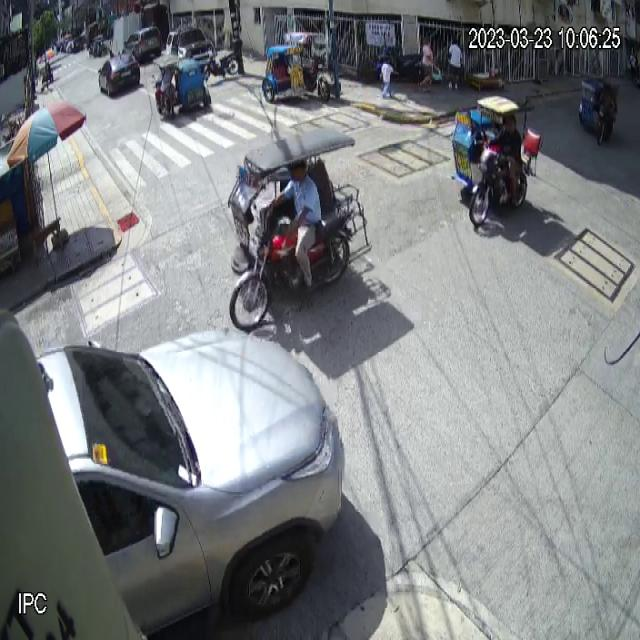Car: (36, 327, 347, 632)
Tricycle: (226, 126, 372, 334), (452, 91, 543, 231), (261, 32, 331, 104), (152, 52, 212, 119)
